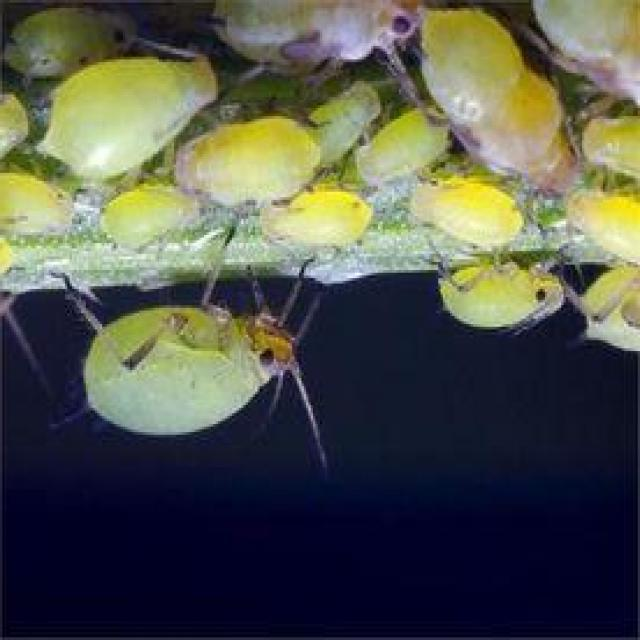aphid: (2, 6, 640, 358), (53, 290, 317, 436)
